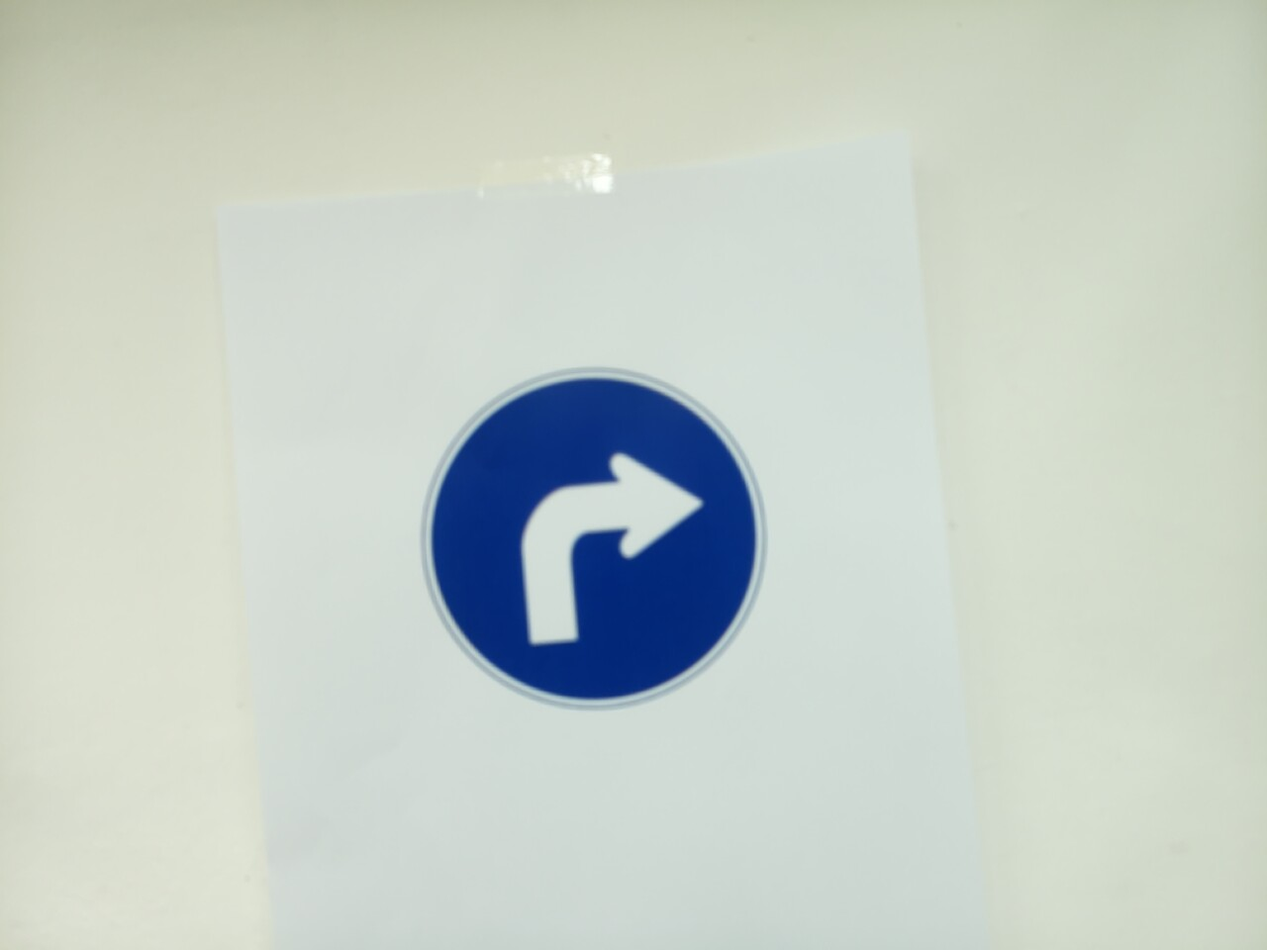right_turn: (422, 368, 766, 710)
